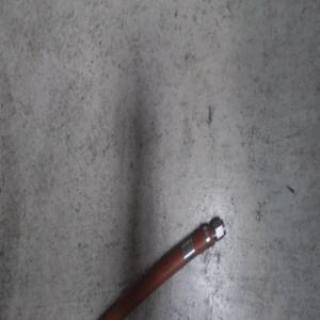Hosetrack_idkeyframe: (69, 213, 226, 319)
